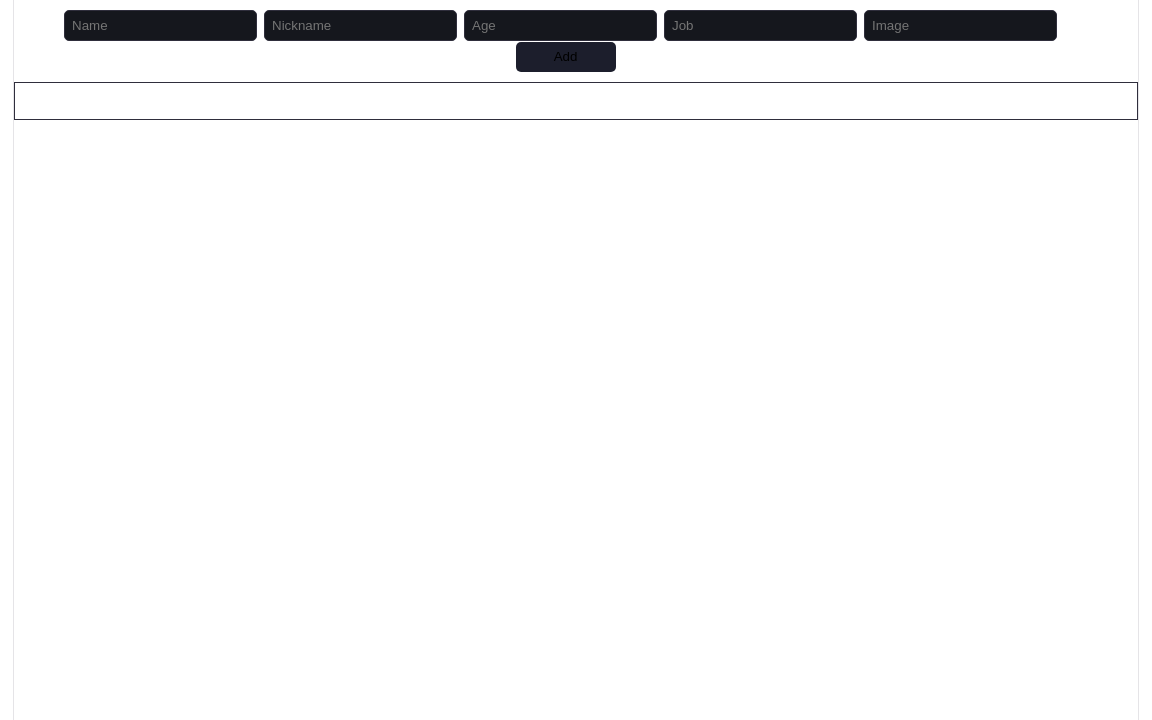
Test: CharacterIndexTable › validates age > 0
Step 1. Type "John" into the field with placeholder "Name" → (160,26), box [64,10,257,41]
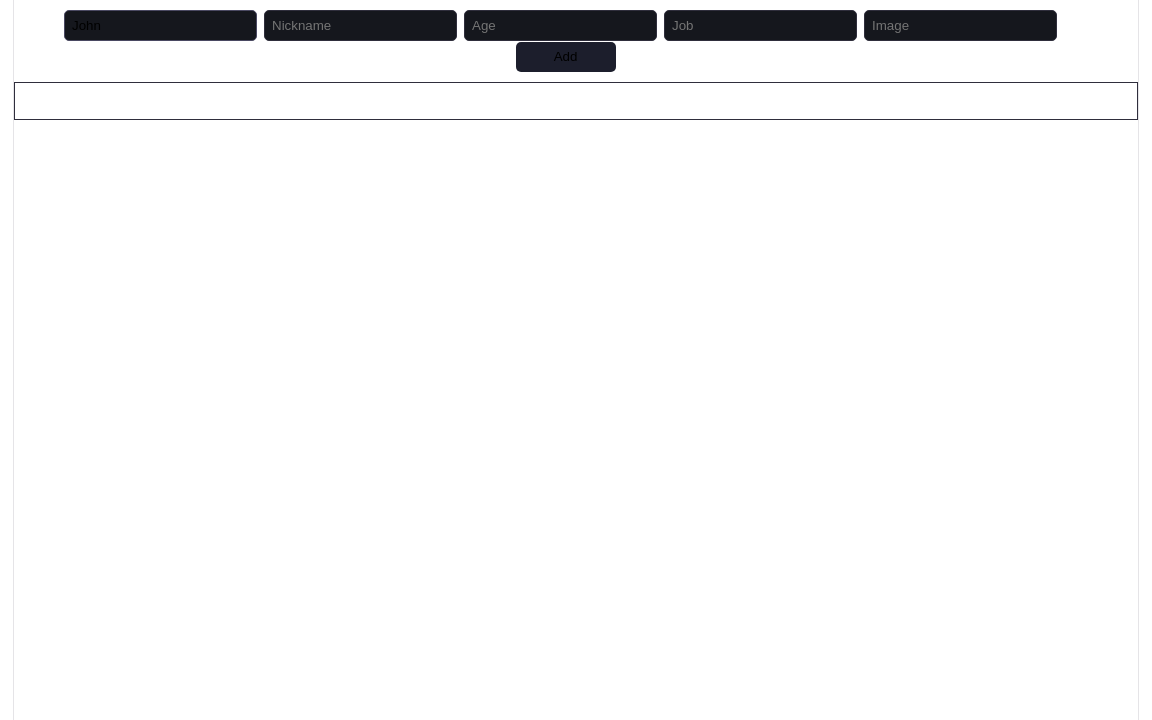
Step 2. Type "Johnny" into the field with placeholder "Nickname" → (360,26), box [264,10,457,41]
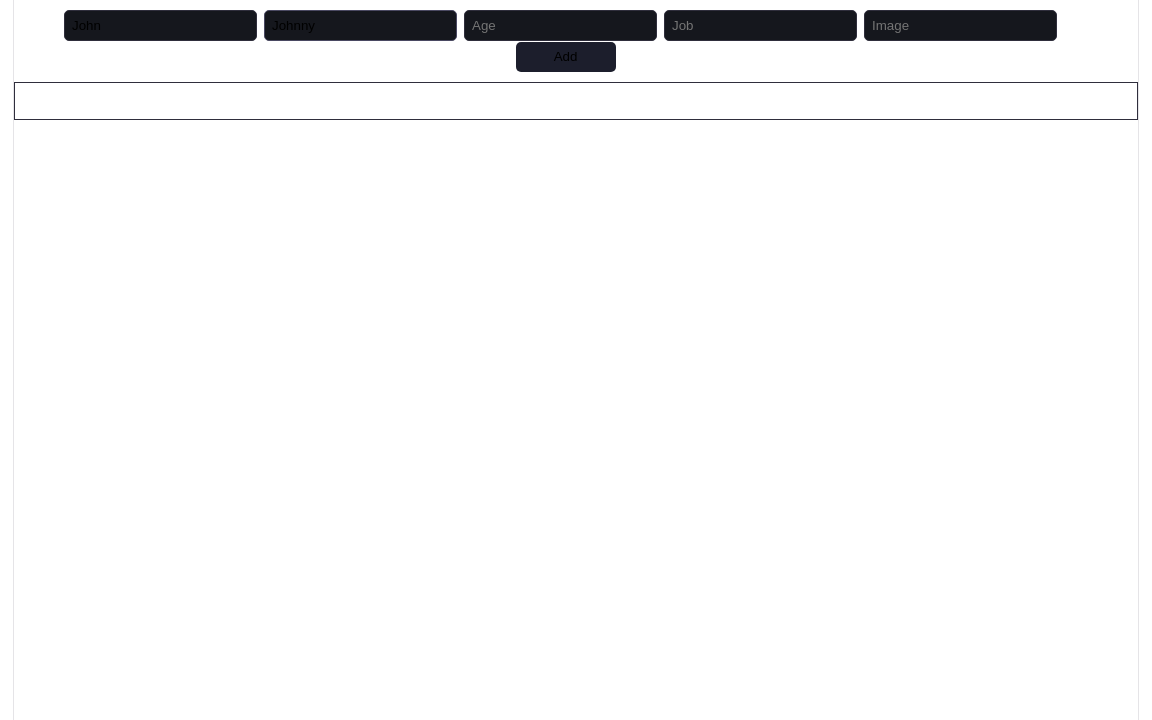
Step 3. Type "0" into the number field with placeholder "Age" → (560,26), box [464,10,657,41]
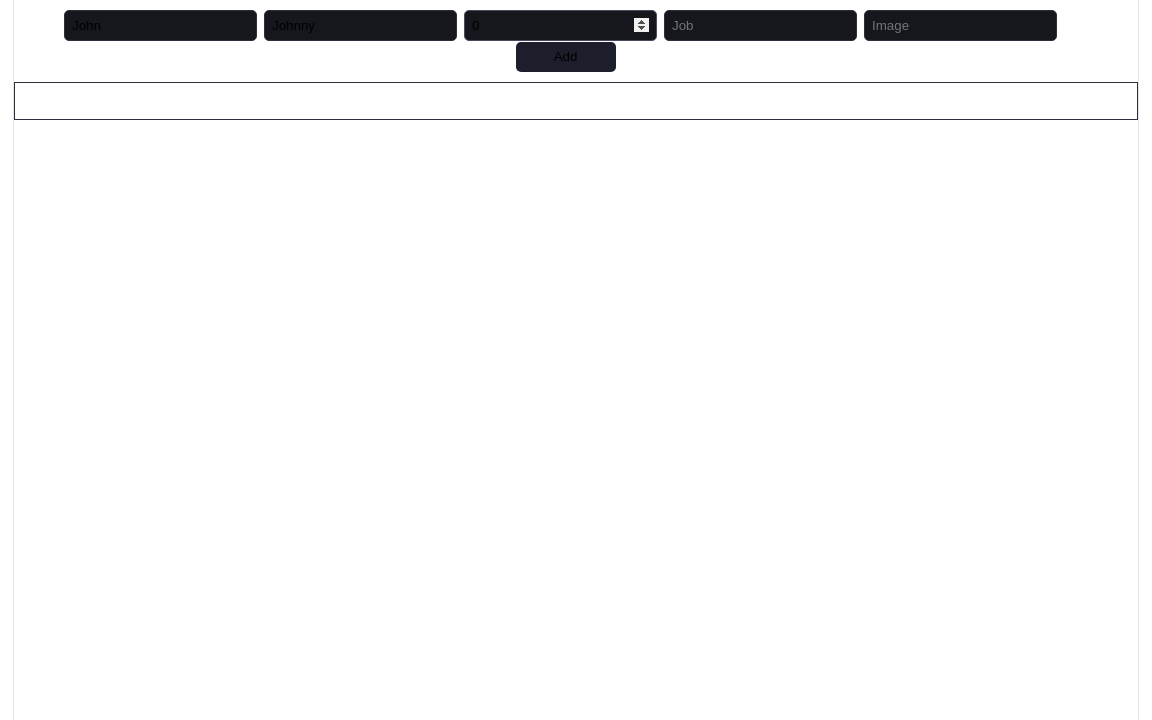
Step 4. Type "Dev" into the field with placeholder "Job" → (760,26), box [664,10,857,41]
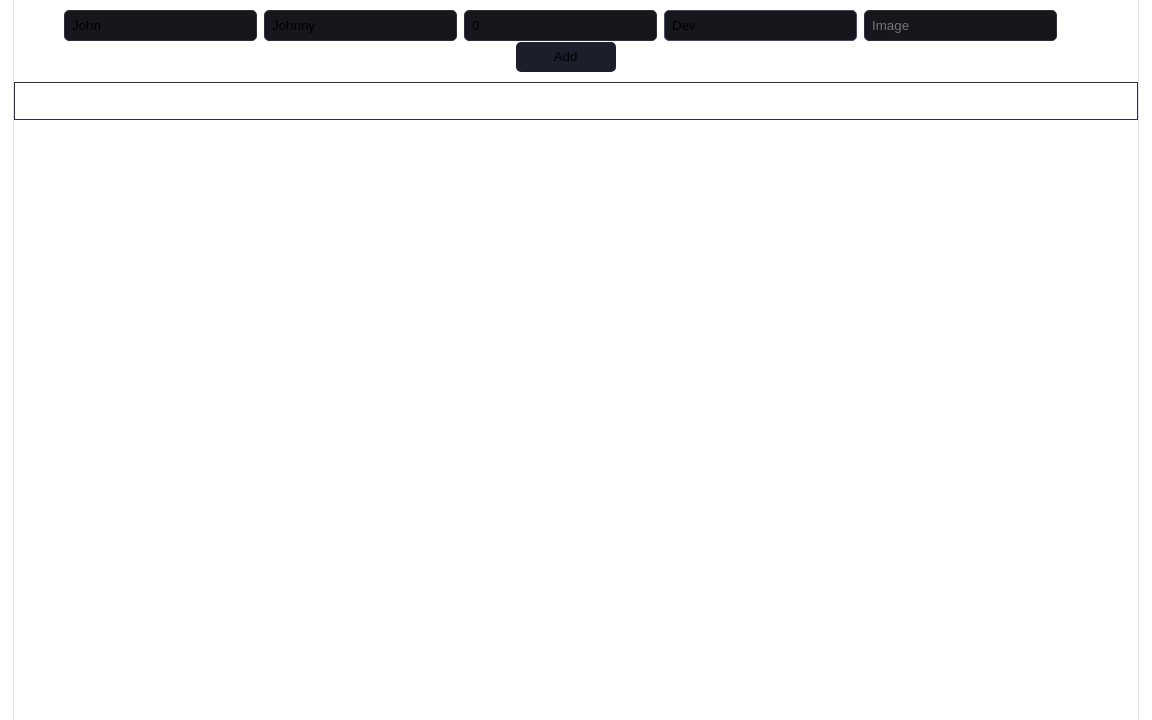
Step 5. Type "/img.png" into the field with placeholder "Image" → (960,26), box [864,10,1057,41]
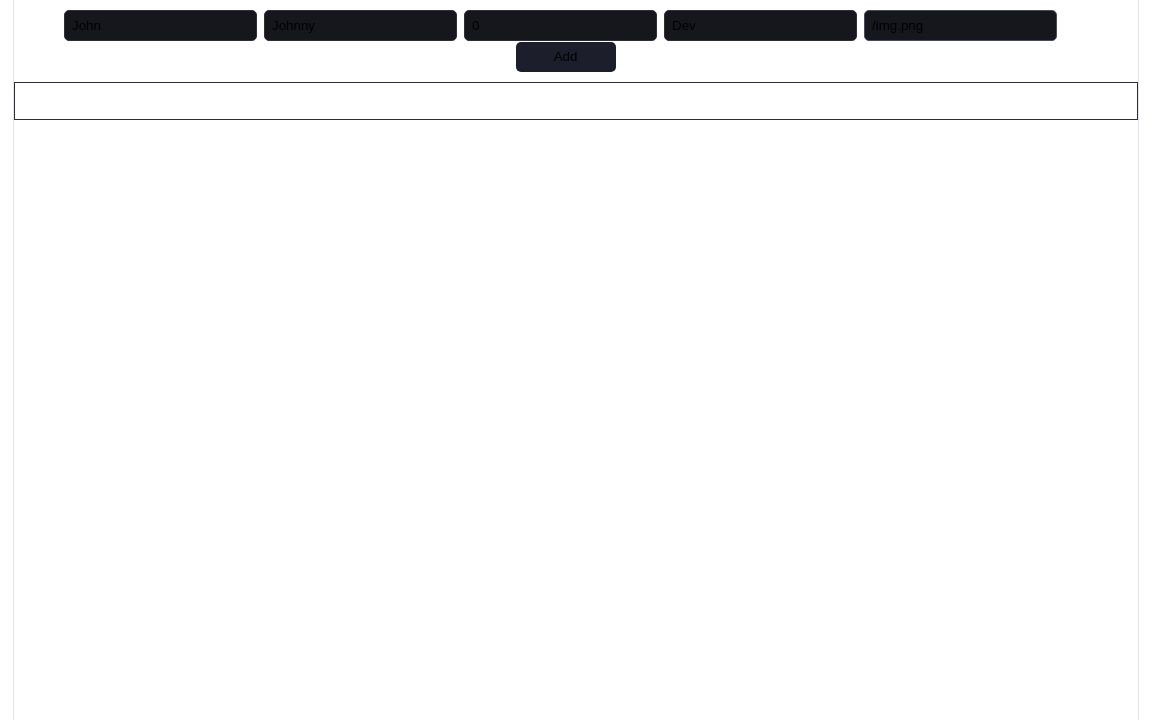
Step 6. Click the button "Add" → (566,56), box [516,42,616,72]
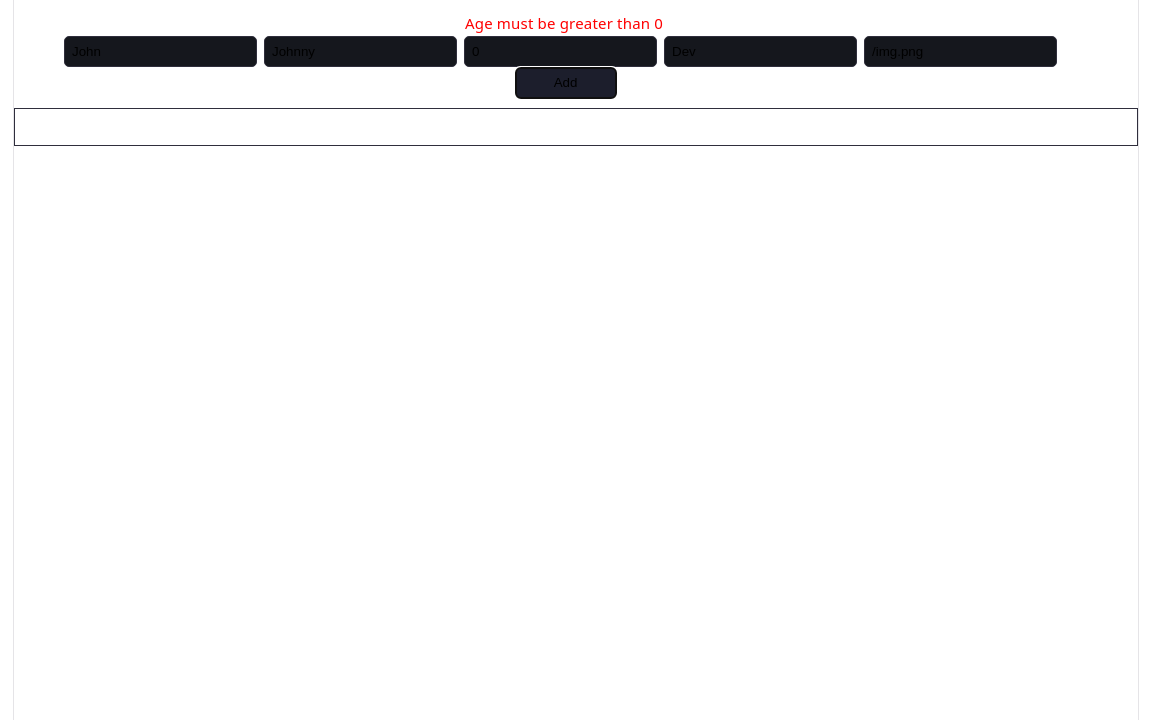
Now the text "Age must be greater than 0" is shown, box [465,13,663,33]
